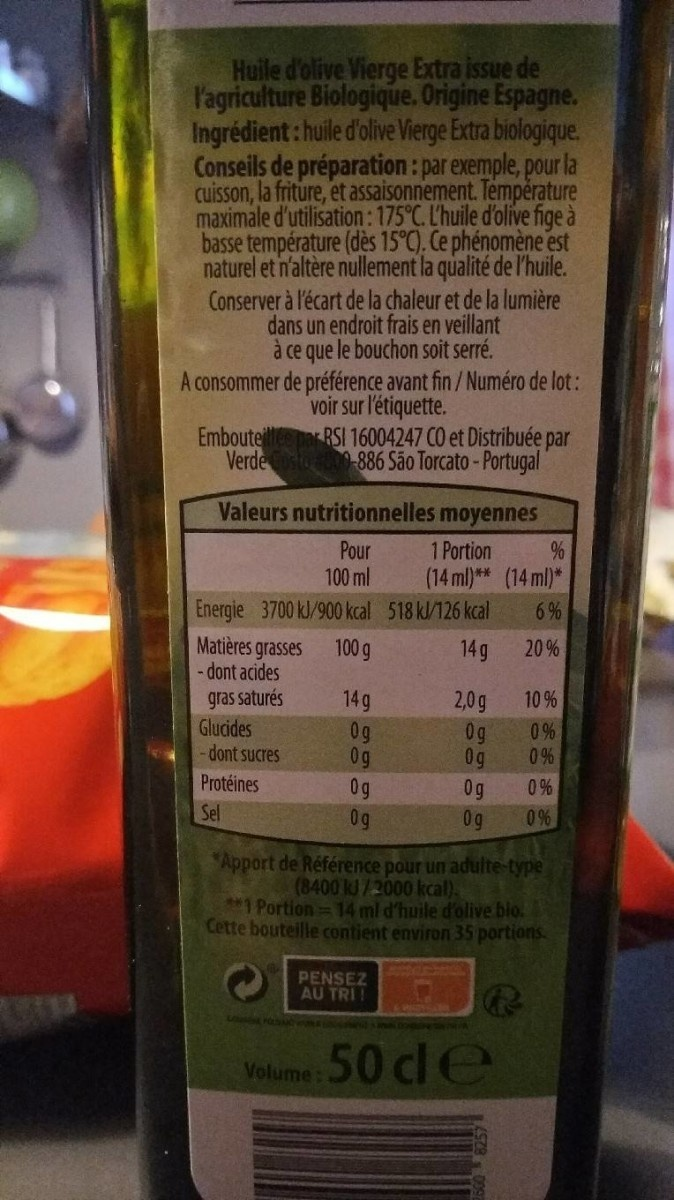column: (194, 529, 372, 844), (387, 529, 492, 839), (504, 534, 564, 830)
table: (183, 480, 575, 844)
